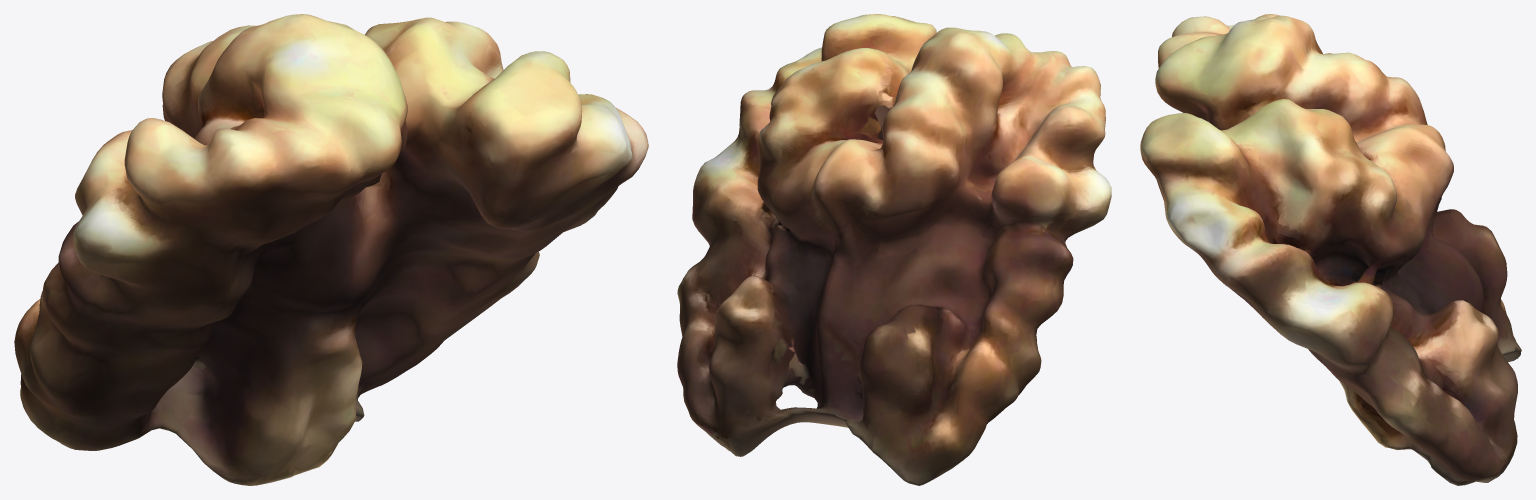
File: Walnuss.fbx
The picture shows the model from 3 angles, left to right: view 1: azimuth 30°, elevation 25°; view 2: azimuth 150°, elevation 25°; view 3: azimuth 270°, elevation 25°; orthographic projection. The views are drawn at different scales.
Visible parts, largest first — view 1: Walnuss_tex; view 2: Walnuss_tex; view 3: Walnuss_tex.
Boxes of the visible parts, bbox=[...] form: Walnuss_tex: bbox=[14, 14, 648, 485]; Walnuss_tex: bbox=[677, 14, 1111, 485]; Walnuss_tex: bbox=[1140, 14, 1521, 485].
Size of the model in its own units: 2.89 by 2.7 by 2.32.
1 material, 1 textured.
